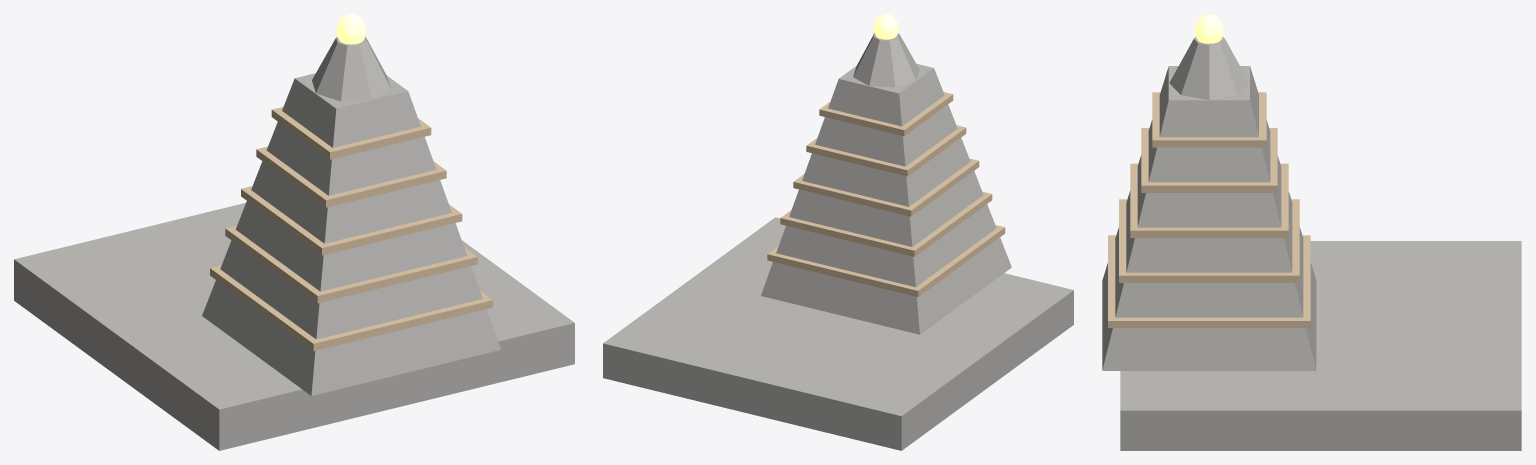
The model's file is dravidian_s3.glb.
3 views of the same model, side by side, from view 1: azimuth 30°, elevation 25°; view 2: azimuth 150°, elevation 25°; view 3: azimuth 270°, elevation 25° (orthographic). The views are drawn at different scales.
Parts seen in each view (by area): view 1: dravidian; view 2: dravidian; view 3: dravidian.
Boxes of the visible parts, x1,y1,x2,y2 form: dravidian: (14,14,574,450); dravidian: (603,14,1073,450); dravidian: (1102,14,1521,450).
Bounding box in the file's own units: 10.36 × 10 × 10.82.
